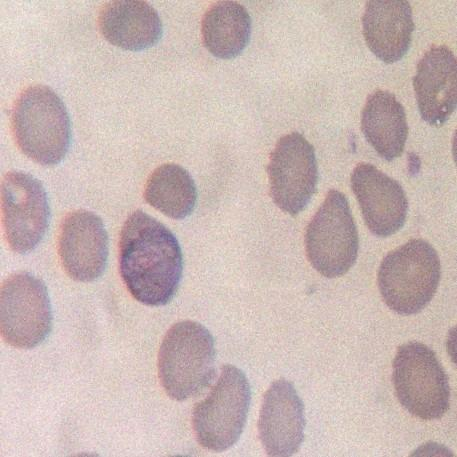Infected: (115, 209, 183, 304)
Uninfected: (190, 363, 251, 454), (376, 235, 441, 317), (154, 319, 217, 403), (391, 337, 451, 421), (304, 189, 360, 278), (11, 84, 71, 166), (266, 132, 320, 214), (0, 169, 49, 258), (349, 163, 410, 234), (0, 273, 55, 349), (256, 377, 308, 457), (410, 40, 457, 126), (55, 209, 108, 282), (361, 87, 410, 162), (359, 0, 415, 64), (196, 2, 251, 63), (95, 0, 161, 50), (144, 160, 195, 220)
